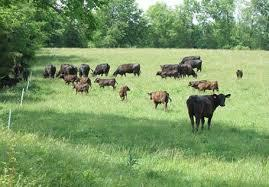cow: (185, 92, 231, 133), (147, 90, 173, 112), (111, 62, 141, 78), (90, 62, 111, 78), (94, 77, 119, 89), (179, 65, 198, 80), (156, 69, 179, 81), (183, 59, 202, 73), (197, 80, 219, 92), (187, 80, 208, 92), (118, 84, 131, 102), (76, 64, 93, 77), (178, 55, 200, 65), (42, 64, 56, 79), (72, 84, 93, 94), (60, 74, 77, 86), (58, 63, 71, 77), (76, 76, 92, 86), (159, 64, 180, 70), (65, 66, 77, 75), (235, 69, 243, 80)
